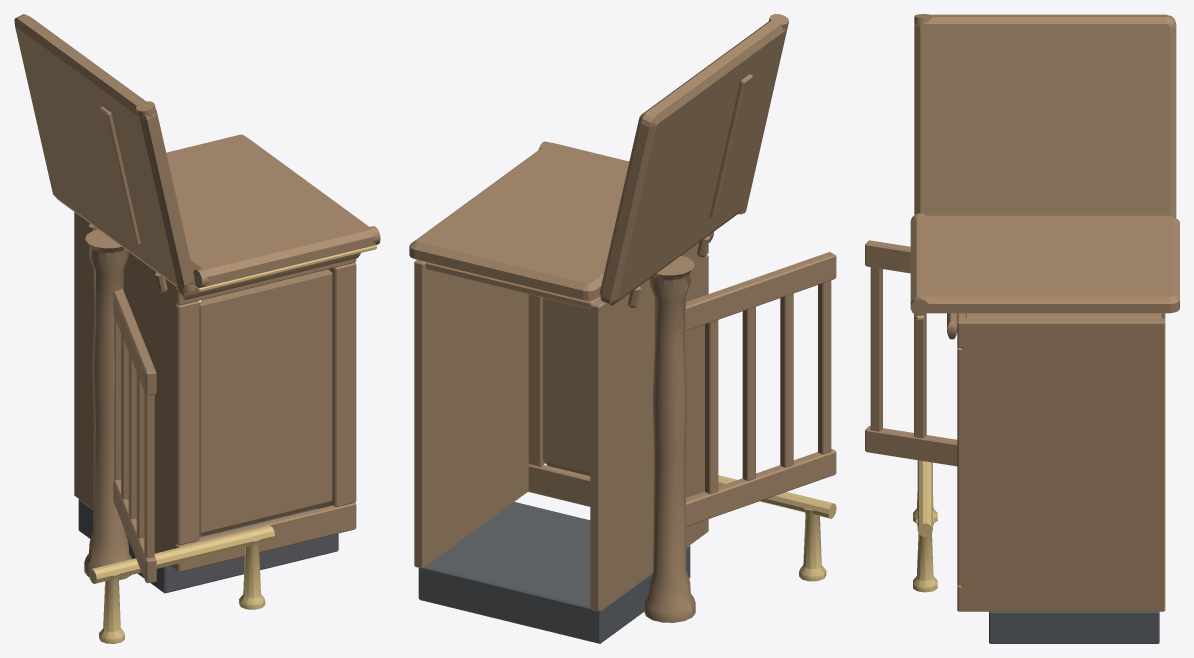
File: bar-pub-and-brewery-taproom-bar-counter-end-flap-raise-b749e839__18318.glb
3 renders of one model, left to right at view 1: azimuth 30°, elevation 25°; view 2: azimuth 150°, elevation 25°; view 3: azimuth 270°, elevation 25°, orthographic. The views are drawn at different scales.
Visible parts, largest first — view 1: bar-counter-end-flap-raised, lift-flap, bar-gate; view 2: bar-counter-end-flap-raised, lift-flap, bar-gate; view 3: bar-counter-end-flap-raised, lift-flap, bar-gate.
Boxes of the visible parts, x1=… form: bar-counter-end-flap-raised: x1=74, y1=134, x2=380, y2=643; lift-flap: x1=14, y1=14, x2=195, y2=293; bar-gate: x1=113, y1=288, x2=156, y2=583; bar-counter-end-flap-raised: x1=409, y1=141, x2=836, y2=643; lift-flap: x1=600, y1=14, x2=788, y2=307; bar-gate: x1=685, y1=252, x2=836, y2=526; bar-counter-end-flap-raised: x1=910, y1=213, x2=1179, y2=643; lift-flap: x1=914, y1=14, x2=1176, y2=217; bar-gate: x1=865, y1=240, x2=957, y2=466.
Bounding box in the file's own units: 0.8801 × 1.58 × 0.8651.
